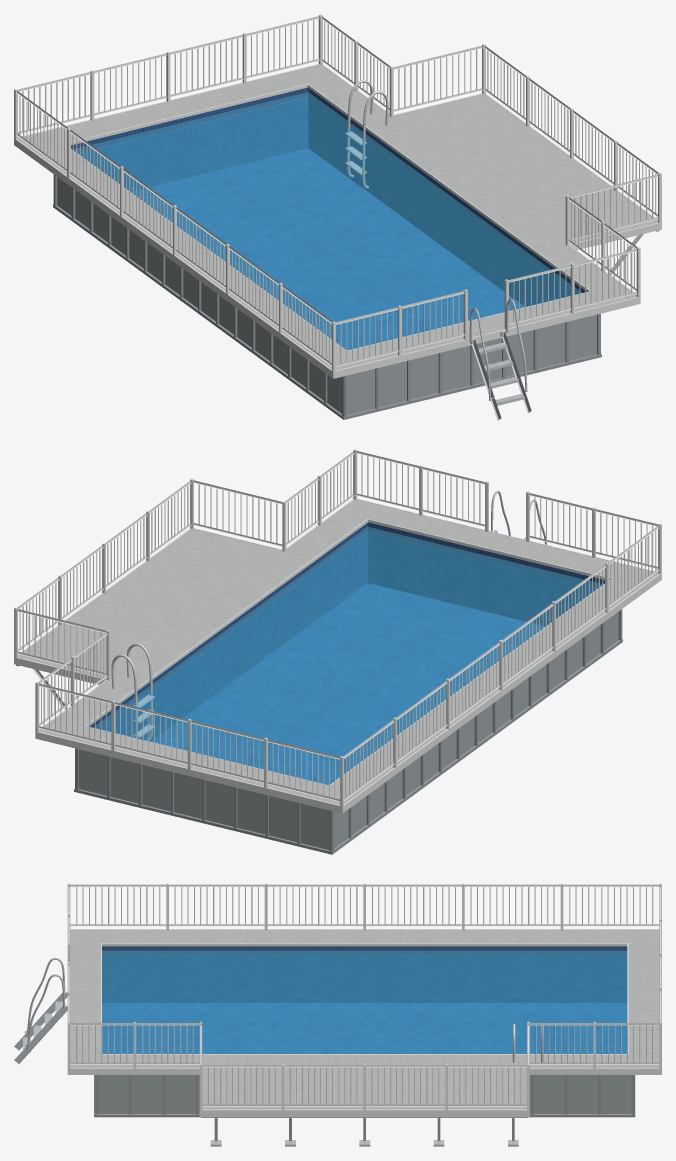
Rendered from kayak-pool-16x32-gray-t-ag-fence.fb58b515c5.glb.
The picture shows the model from 3 angles, top to bottom: view 1: azimuth 30°, elevation 25°; view 2: azimuth 150°, elevation 25°; view 3: azimuth 270°, elevation 25°; orthographic projection. The views are drawn at different scales.
Visible parts, largest first — view 1: water, deck, liner_floor, fence, liner_wall, wall, fascia, upright, ladder, steel; view 2: water, deck, liner_floor, fence, liner_wall, wall, fascia, upright, steel; view 3: water, deck, liner_wall, liner_floor, fence, fascia, wall, upright, ladder, stud.
Boxes of the visible parts, box(x1,y1,x2,y2) form: water: box(74, 92, 581, 350); deck: box(17, 64, 657, 370); liner_floor: box(130, 148, 524, 350); fence: box(14, 14, 661, 371); liner_wall: box(71, 87, 586, 306); wall: box(57, 177, 596, 415); fascia: box(14, 64, 661, 378); upright: box(53, 174, 601, 419); ladder: box(469, 299, 531, 420); steel: box(345, 80, 388, 188); water: box(93, 527, 602, 785); deck: box(18, 499, 658, 805); liner_floor: box(151, 583, 545, 785); fence: box(14, 449, 661, 806); liner_wall: box(90, 522, 604, 741); wall: box(79, 612, 618, 849); fascia: box(14, 498, 661, 813); upright: box(74, 609, 622, 854); steel: box(111, 643, 154, 740); water: box(102, 950, 627, 1053); deck: box(70, 929, 659, 1109); liner_wall: box(102, 946, 627, 1002); liner_floor: box(102, 1003, 627, 1053); fence: box(67, 883, 661, 1110); fascia: box(67, 929, 661, 1116); wall: box(97, 1075, 631, 1113); upright: box(94, 1075, 635, 1117); ladder: box(14, 957, 67, 1064); stud: box(201, 1117, 528, 1146).
Size of the model in its own units: 7.93 by 2.15 by 11.96.
Materials: 11 (3 with a texture image).
